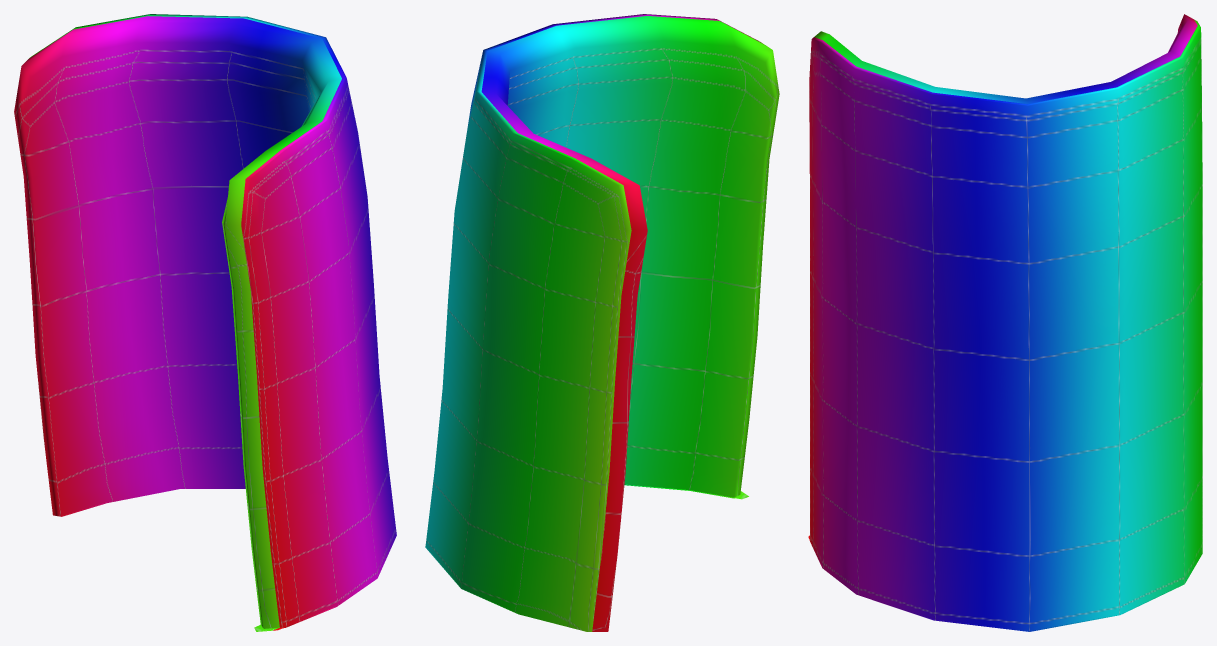
File: list_opet.fbx
3 renders of one model, left to right at view 1: azimuth 30°, elevation 25°; view 2: azimuth 150°, elevation 25°; view 3: azimuth 270°, elevation 25°, orthographic. The views are drawn at different scales.
Parts seen in each view (by area): view 1: polySurface73; view 2: polySurface73; view 3: polySurface73.
Part boxes in pixels (<box>): polySurface73: <box>14,14,396,631</box>; polySurface73: <box>425,14,779,631</box>; polySurface73: <box>808,14,1202,631</box>.
Bounding box in the file's own units: 0.2432 × 0.3876 × 0.2703.
1 material, 1 textured.
